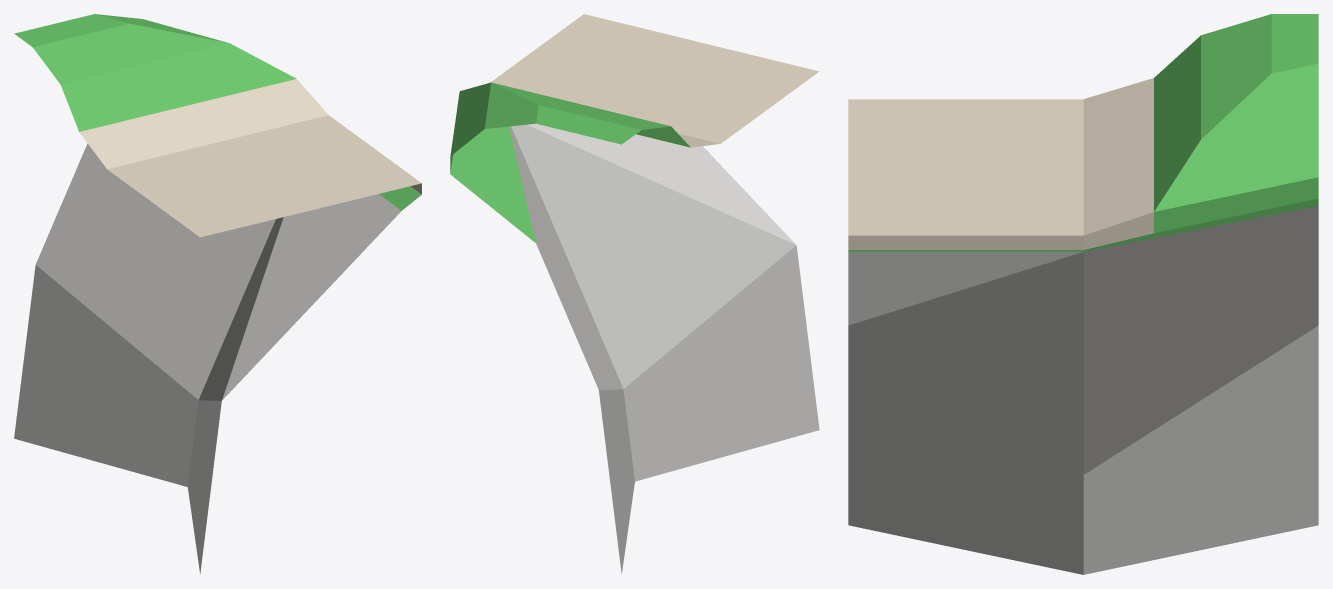
The model's file is Cliff_Terrain_Side_Falloff_Edge.glb.
3 renders of one model, left to right at view 1: azimuth 30°, elevation 25°; view 2: azimuth 150°, elevation 25°; view 3: azimuth 270°, elevation 25°, orthographic. The views are drawn at different scales.
Parts seen in each view (by area): view 1: Cliff_Terrain_Side_Falloff_Edge; view 2: Cliff_Terrain_Side_Falloff_Edge; view 3: Cliff_Terrain_Side_Falloff_Edge.
Part boxes in pixels (x1,y1,x2,y2): Cliff_Terrain_Side_Falloff_Edge: [14, 14, 421, 574]; Cliff_Terrain_Side_Falloff_Edge: [450, 14, 819, 573]; Cliff_Terrain_Side_Falloff_Edge: [848, 14, 1318, 574].
Bounding box in the file's own units: 0.231 × 0.4032 × 0.336.
